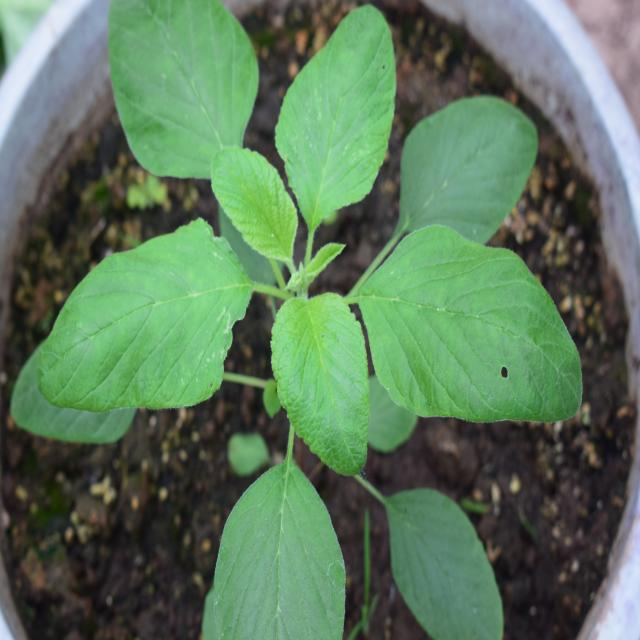pigweed: (35, 0, 566, 550)
